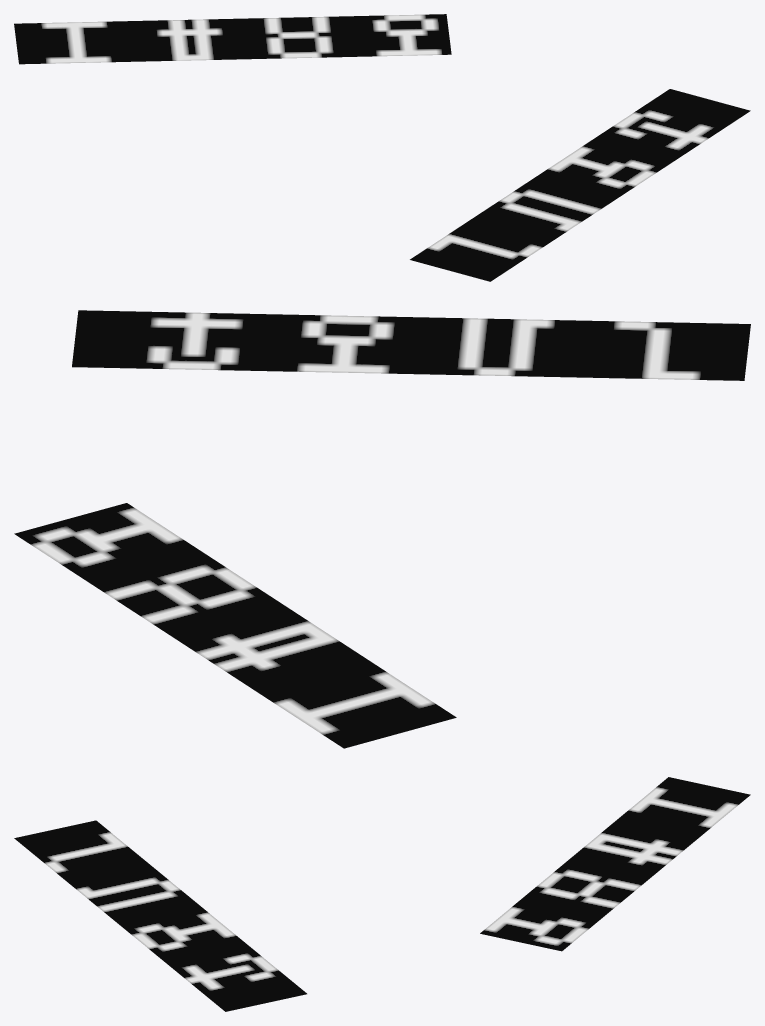
The model's file is SM_TotemGlyphs_02.glb.
The picture shows the model from 3 angles, top to bottom: view 1: azimuth 30°, elevation 25°; view 2: azimuth 150°, elevation 25°; view 3: azimuth 270°, elevation 25°; orthographic projection. The views are drawn at different scales.
Visible parts, largest first — view 1: SM_TotemGlyphs_02.001; view 2: SM_TotemGlyphs_02.001; view 3: SM_TotemGlyphs_02.001.
Boxes of the visible parts, x1,y1,x2,y2 form: SM_TotemGlyphs_02.001: (14, 14, 750, 281); SM_TotemGlyphs_02.001: (14, 310, 750, 748); SM_TotemGlyphs_02.001: (14, 777, 750, 1011).
Bounding box in the file's own units: 601 × 0.000131 × 797.
Materials: 1 (1 with a texture image).
